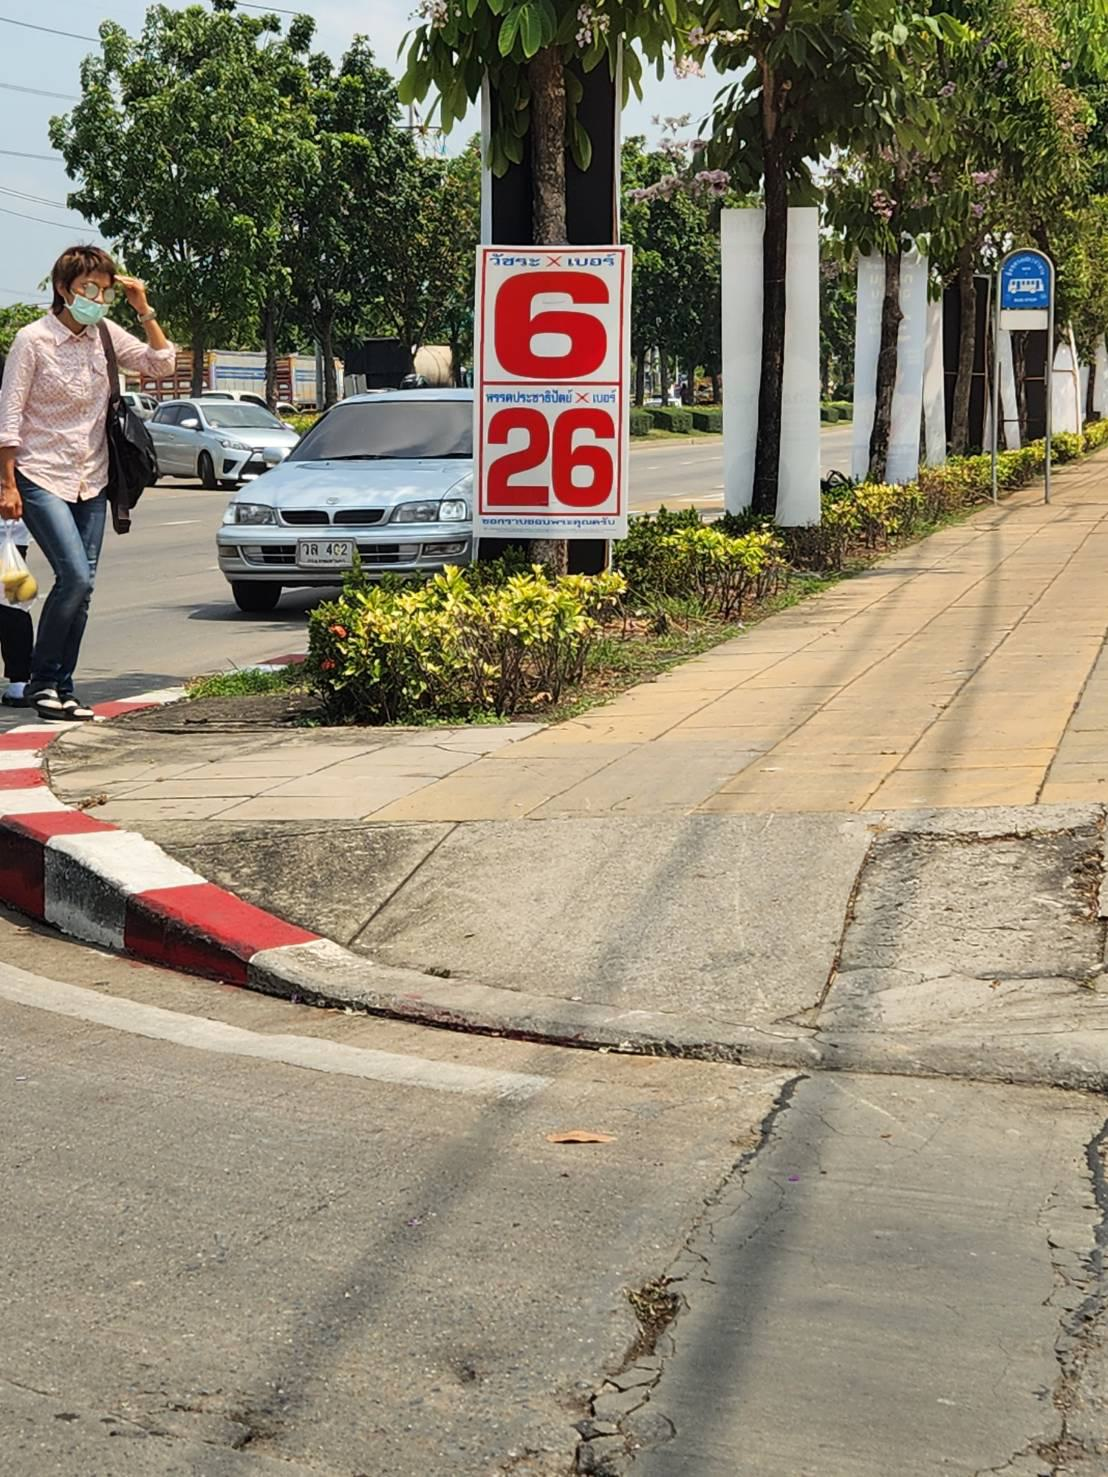Banner: (474, 242, 630, 540)
